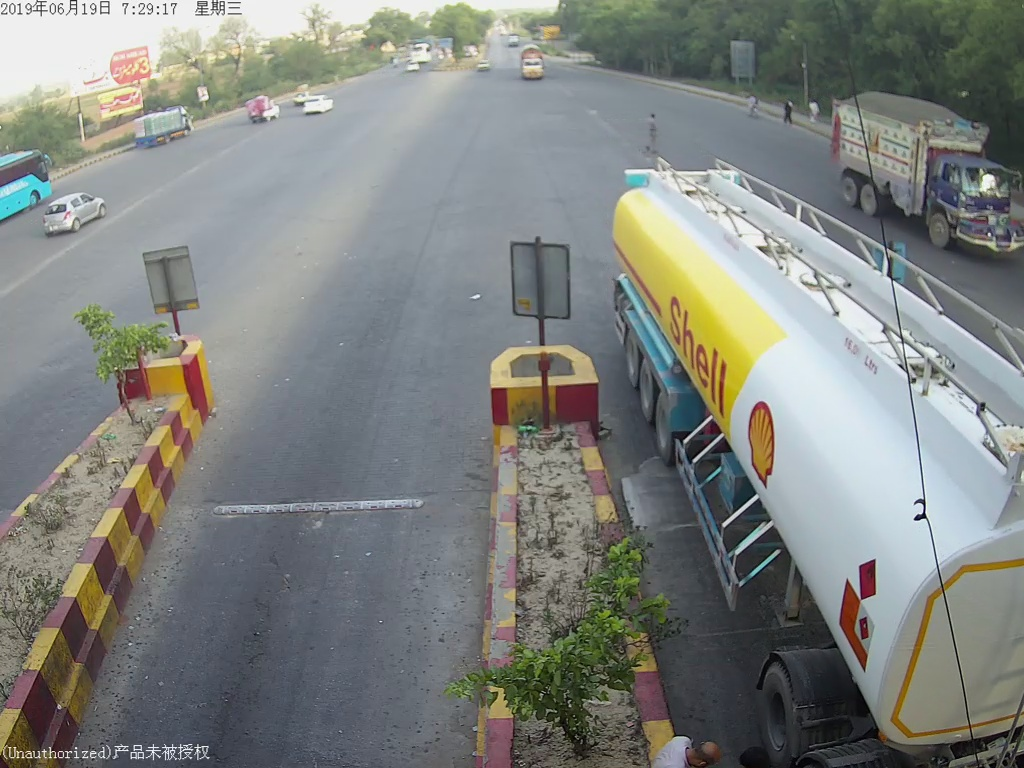Cat-4: (510, 48, 552, 90)
